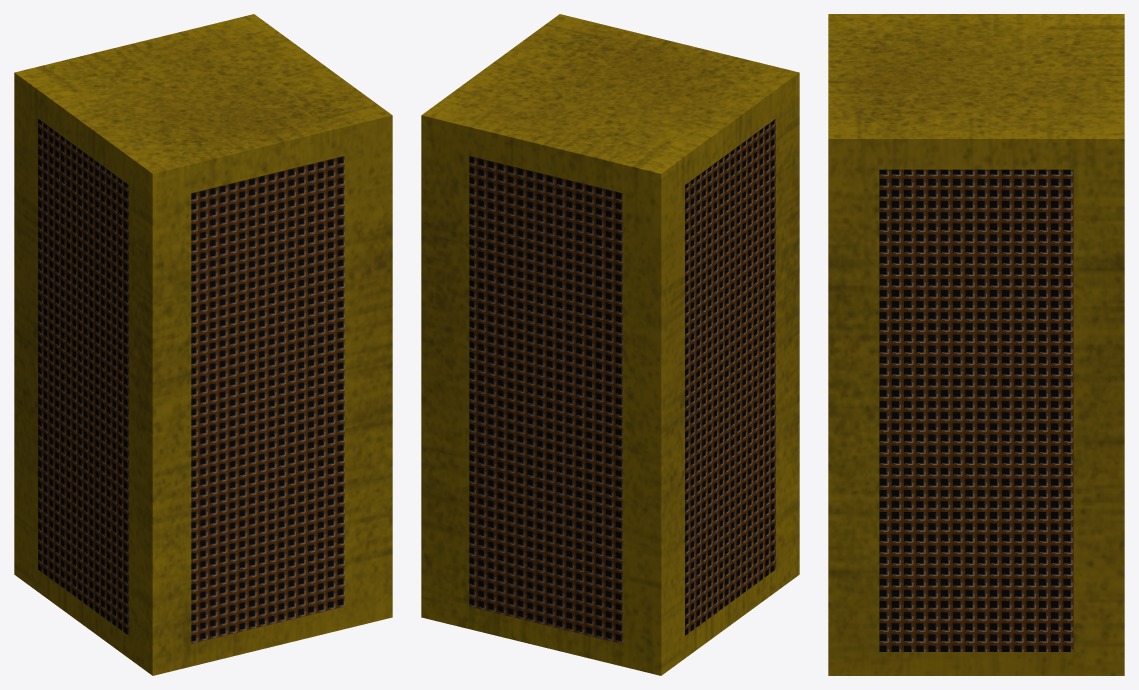
File: Small Battery.fbx
The picture shows the model from 3 angles, left to right: view 1: azimuth 30°, elevation 25°; view 2: azimuth 150°, elevation 25°; view 3: azimuth 270°, elevation 25°; orthographic projection. The views are drawn at different scales.
Visible parts, largest first — view 1: MainBody, Grating3, Grating1; view 2: MainBody, Grating, Grating1; view 3: MainBody, Grating2.
Part boxes in pixels (<box>): MainBody: <box>14,14,392,675</box>; Grating3: <box>191,156,344,643</box>; Grating1: <box>38,119,128,635</box>; MainBody: <box>421,14,799,675</box>; Grating: <box>469,156,622,643</box>; Grating1: <box>685,119,775,635</box>; MainBody: <box>828,14,1124,675</box>; Grating2: <box>879,169,1073,651</box>.
Bounding box in the file's own units: 0.1 × 0.2 × 0.1.
Materials: 3 (3 with a texture image).
